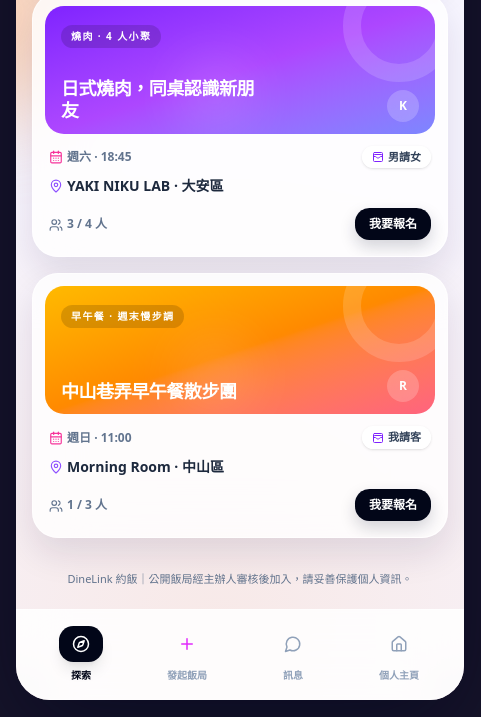
發起飯局表單 › 可選擇日期並開啟 Google 地點搜尋入口
The width and height of the screenshot is (481, 717).
(page scrolled)
Click the button "發起飯局": [187, 655] box [134, 620, 240, 689]
(page scrolled)
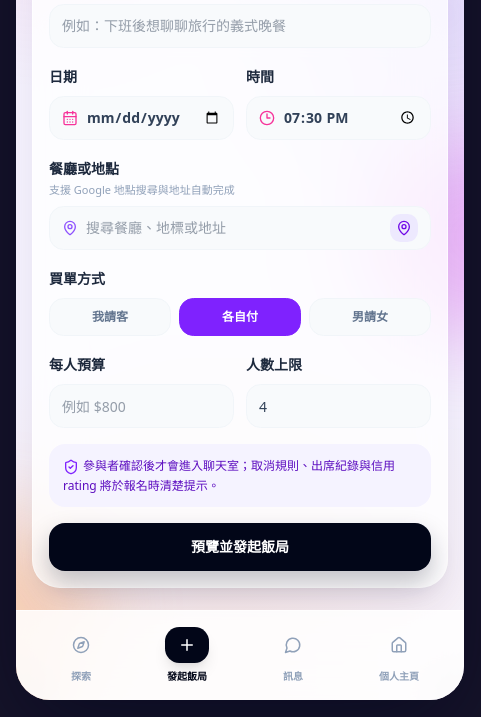
In the date field named "選擇日期": [154, 118] box [86, 108, 221, 128], type "2026-08-20"
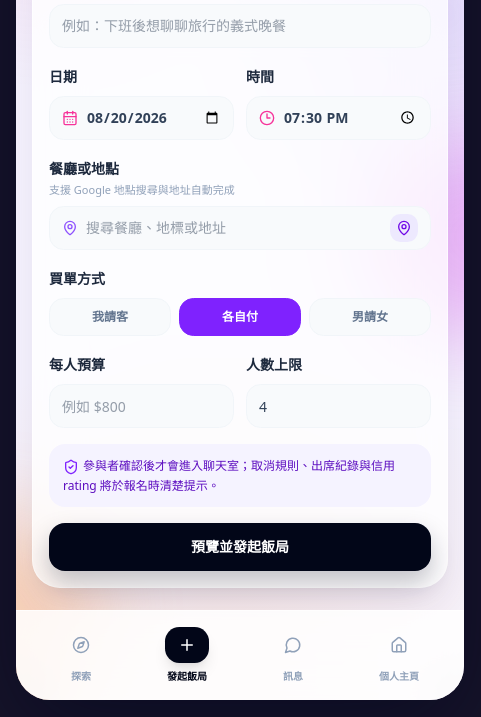
Focus the field with placeholder "搜尋餐廳、地標或地址": [234, 228] box [86, 218, 382, 238]
(page scrolled)
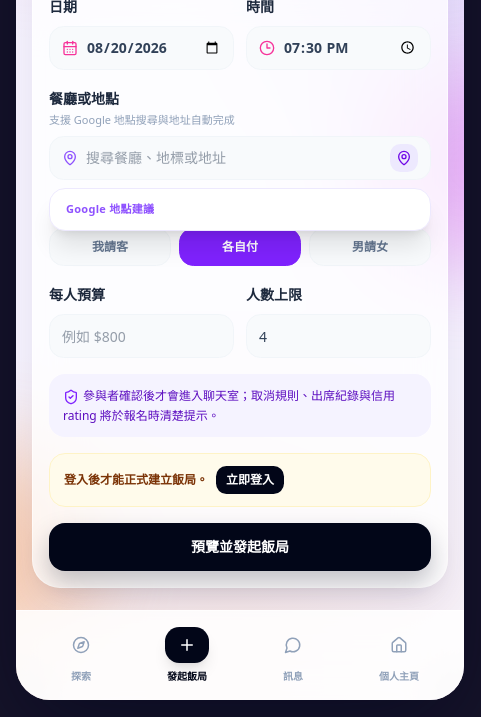
Expected: the text "Google 地點建議" is shown, [66, 201, 154, 216]
